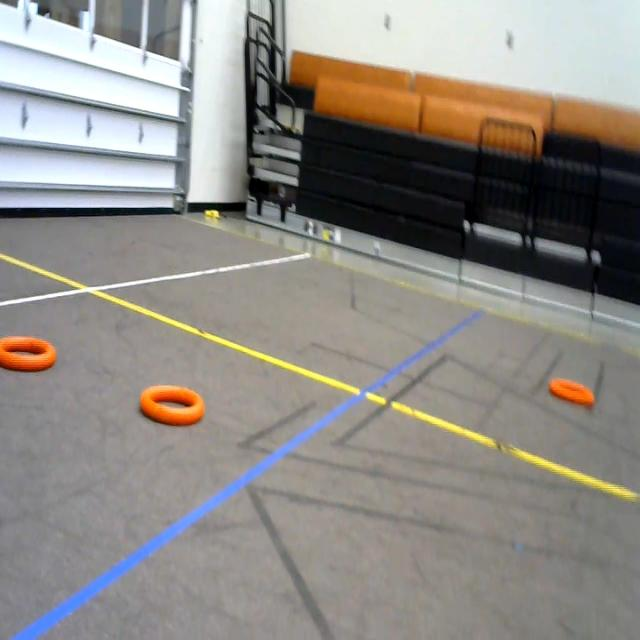note: (136, 377, 213, 435), (0, 331, 59, 393), (548, 368, 597, 413)
